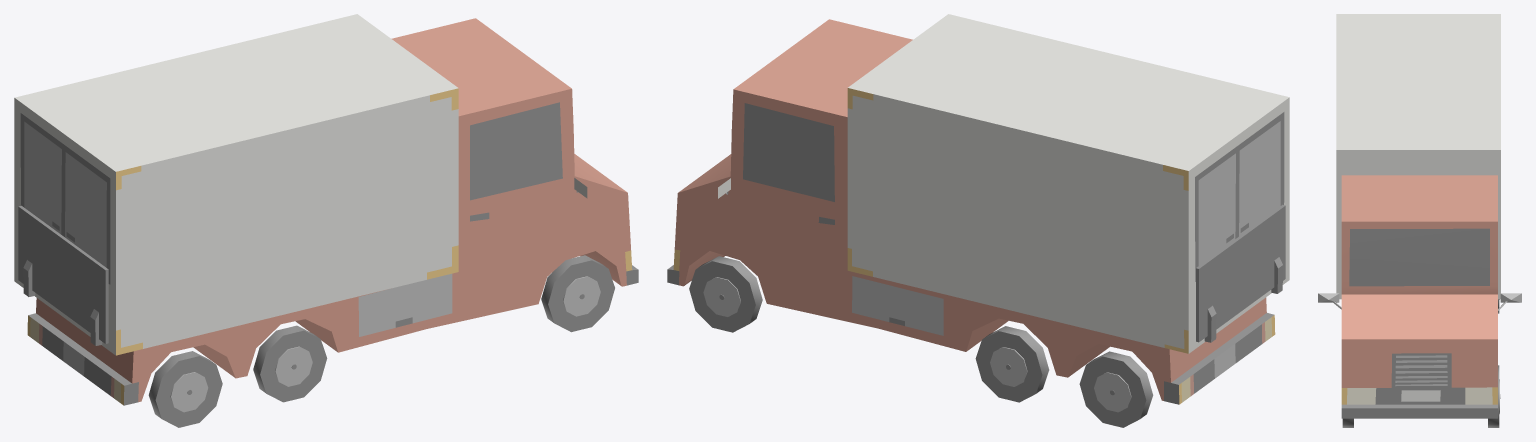
Rendered from truck10.fbx.
The picture shows the model from 3 angles, left to right: view 1: azimuth 30°, elevation 25°; view 2: azimuth 150°, elevation 25°; view 3: azimuth 270°, elevation 25°; orthographic projection. The views are drawn at different scales.
Visible parts, largest first — view 1: Cube_1, Cylinder, Cylinder_9, Cylinder_6; view 2: Cube_1, Cylinder_8, Cylinder_1, Cylinder_7; view 3: Cube_1, Cylinder_7.
Part boxes in pixels (<box>): Cube_1: <box>14,14,638,405</box>; Cylinder: <box>253,325,327,402</box>; Cylinder_9: <box>148,351,222,427</box>; Cylinder_6: <box>541,255,614,332</box>; Cube_1: <box>667,14,1289,404</box>; Cylinder_8: <box>1079,351,1153,427</box>; Cylinder_1: <box>975,326,1049,402</box>; Cylinder_7: <box>689,256,762,332</box>; Cube_1: <box>1318,14,1521,418</box>; Cylinder_7: <box>1488,365,1500,427</box>.
Bounding box in the file's own units: 607 × 300 × 247.
